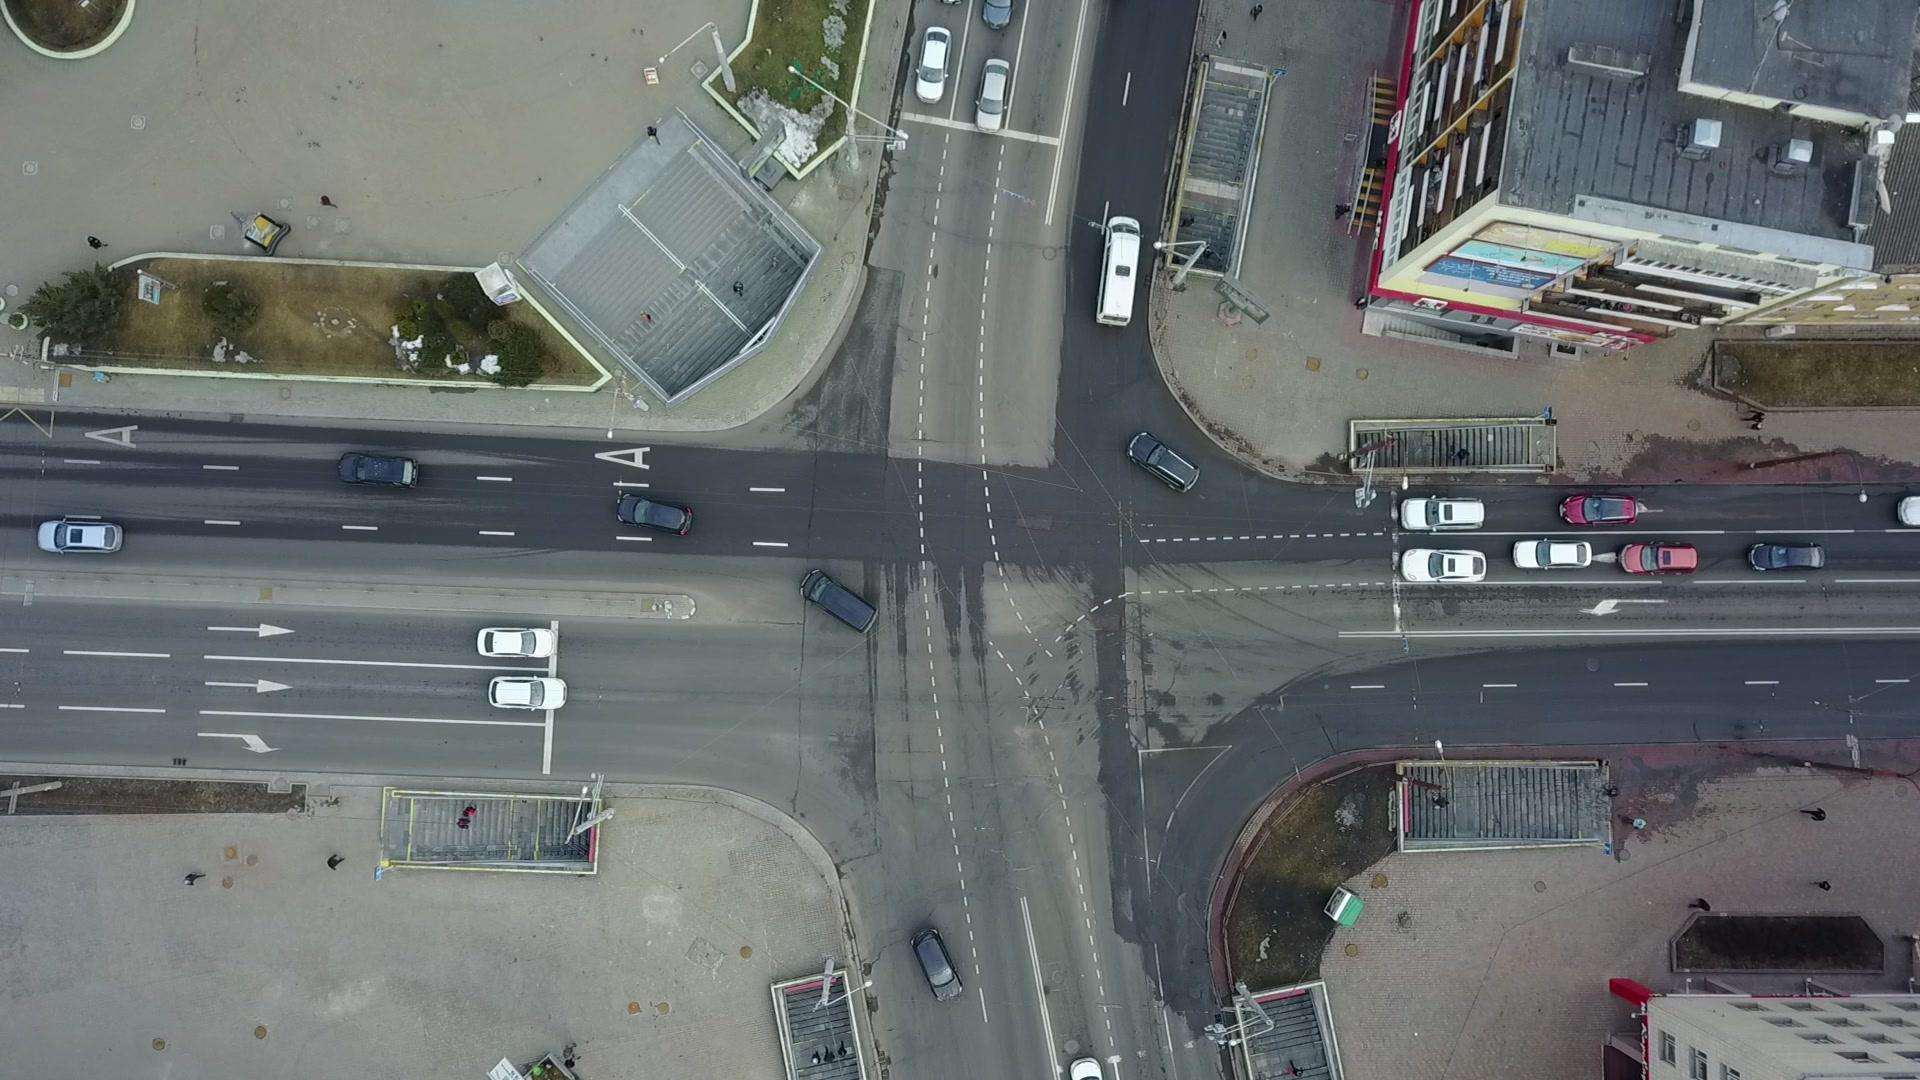car: (796, 567, 881, 637), (1124, 430, 1203, 495), (909, 924, 965, 1004), (334, 448, 423, 496), (32, 516, 127, 556), (615, 492, 695, 538), (1398, 495, 1486, 533), (971, 55, 1013, 135), (1400, 546, 1487, 584), (913, 25, 953, 104), (488, 673, 568, 712), (475, 625, 559, 661), (1615, 542, 1698, 578), (1559, 492, 1639, 527), (1511, 537, 1593, 571), (1746, 539, 1826, 574)
